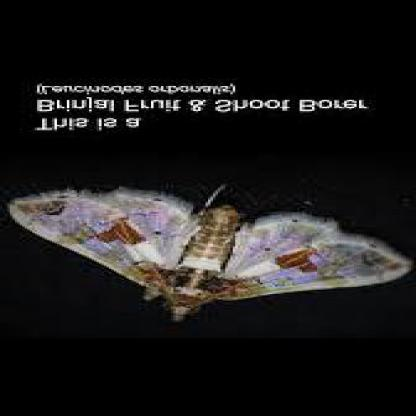leucinodes: (12, 186, 414, 319)
